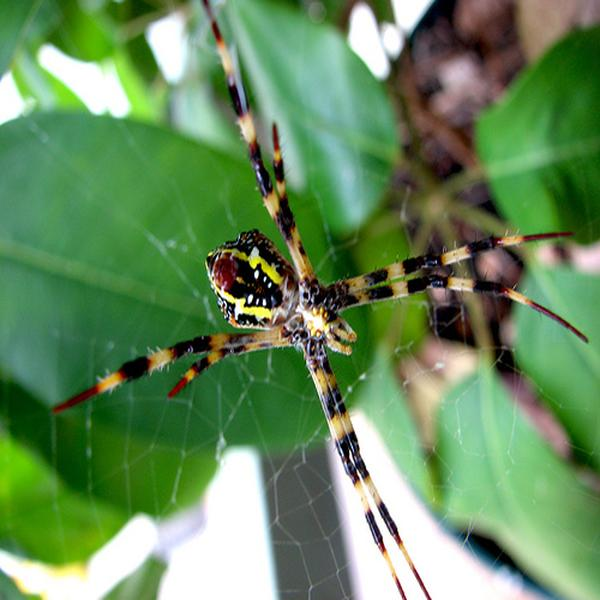St Andrew's Cross Spider: (55, 7, 571, 584)
